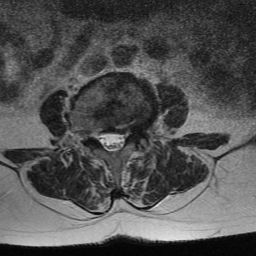CCS_normal: (108, 123, 117, 158)
LFS_severe_stenosis: (126, 120, 136, 144)
LLS_normal: (118, 124, 126, 155)
RFS_normal: (87, 123, 98, 148)
RLS_normal: (98, 125, 108, 152)
